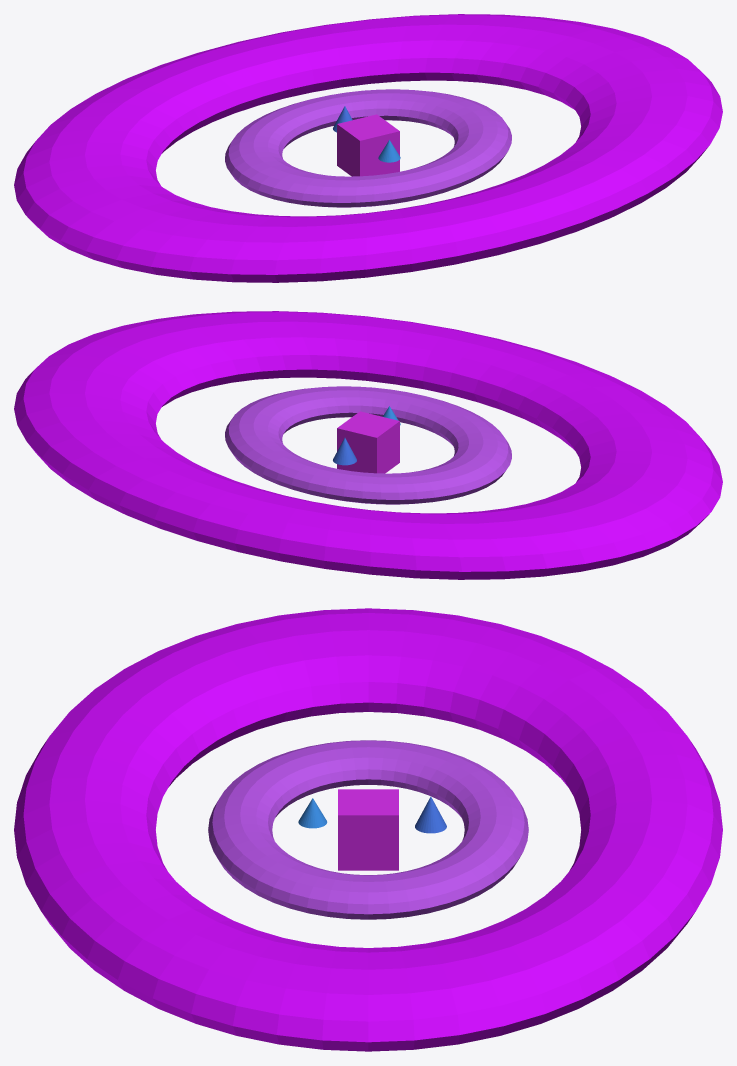
Rendered from Space1.glb.
3 renders of one model, top to bottom at view 1: azimuth 30°, elevation 25°; view 2: azimuth 150°, elevation 25°; view 3: azimuth 270°, elevation 25°, orthographic. The views are drawn at different scales.
Visible parts, largest first — view 1: Torus.001, Torus, Cube; view 2: Torus.001, Torus, Cube; view 3: Torus.001, Torus, Cube, Cone.
Part boxes in pixels (<box>): Torus.001: <box>14,14,722,282</box>; Torus: <box>225,89,511,207</box>; Cube: <box>337,114,399,176</box>; Torus.001: <box>14,311,722,579</box>; Torus: <box>225,386,511,504</box>; Cube: <box>337,411,399,473</box>; Torus.001: <box>14,608,722,1051</box>; Torus: <box>208,740,528,919</box>; Cube: <box>338,789,398,870</box>; Cone: <box>415,796,446,833</box>.
Bounding box in the file's own units: 32.92 × 2.31 × 23.23.
